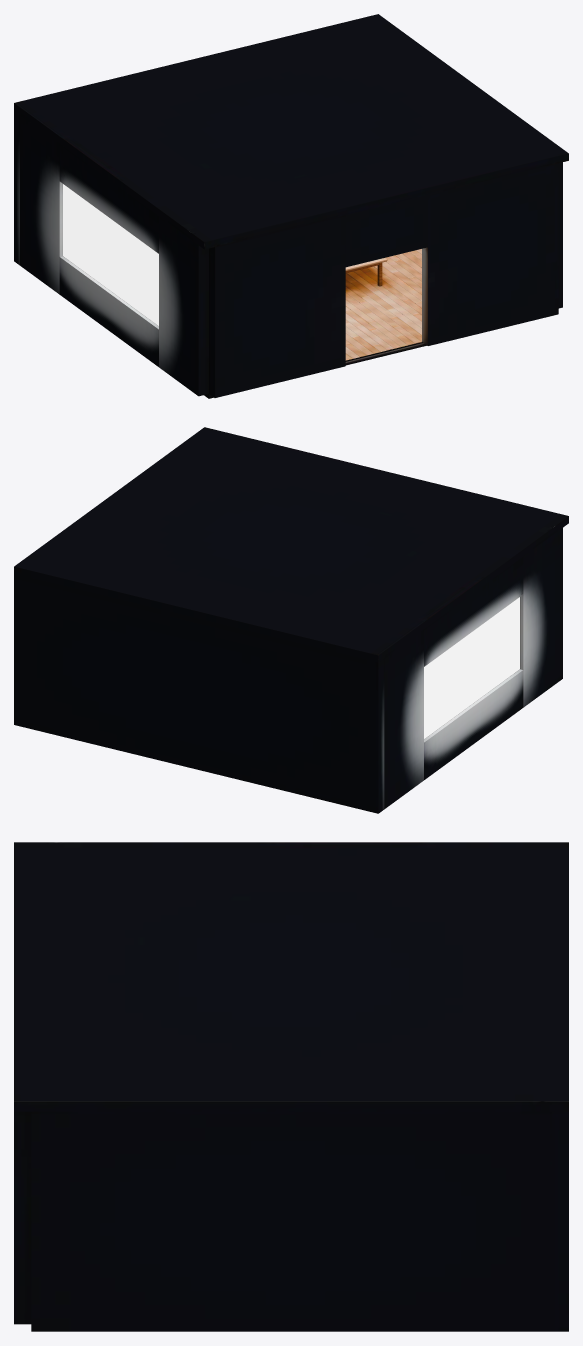
The model's file is room_rails_m.glb.
The picture shows the model from 3 angles, top to bottom: view 1: azimuth 30°, elevation 25°; view 2: azimuth 150°, elevation 25°; view 3: azimuth 270°, elevation 25°; orthographic projection. The views are drawn at different scales.
Visible parts, largest first — view 1: baked_ceiling, baked_walls, baked_floor, window_glass; view 2: baked_walls, baked_ceiling, window_glass; view 3: baked_ceiling, baked_walls.
Boxes of the visible parts, x1,y1,x2,y2 form: baked_ceiling: [14, 14, 568, 249]; baked_walls: [14, 110, 562, 397]; baked_floor: [204, 249, 426, 398]; window_glass: [63, 184, 158, 325]; baked_walls: [14, 528, 562, 813]; baked_ceiling: [14, 427, 568, 662]; window_glass: [424, 597, 519, 738]; baked_ceiling: [14, 842, 568, 1111]; baked_walls: [14, 1111, 568, 1331].
Size of the model in its own units: 10.6 by 4.54 by 9.6.
Materials: 6 (4 with a texture image).
